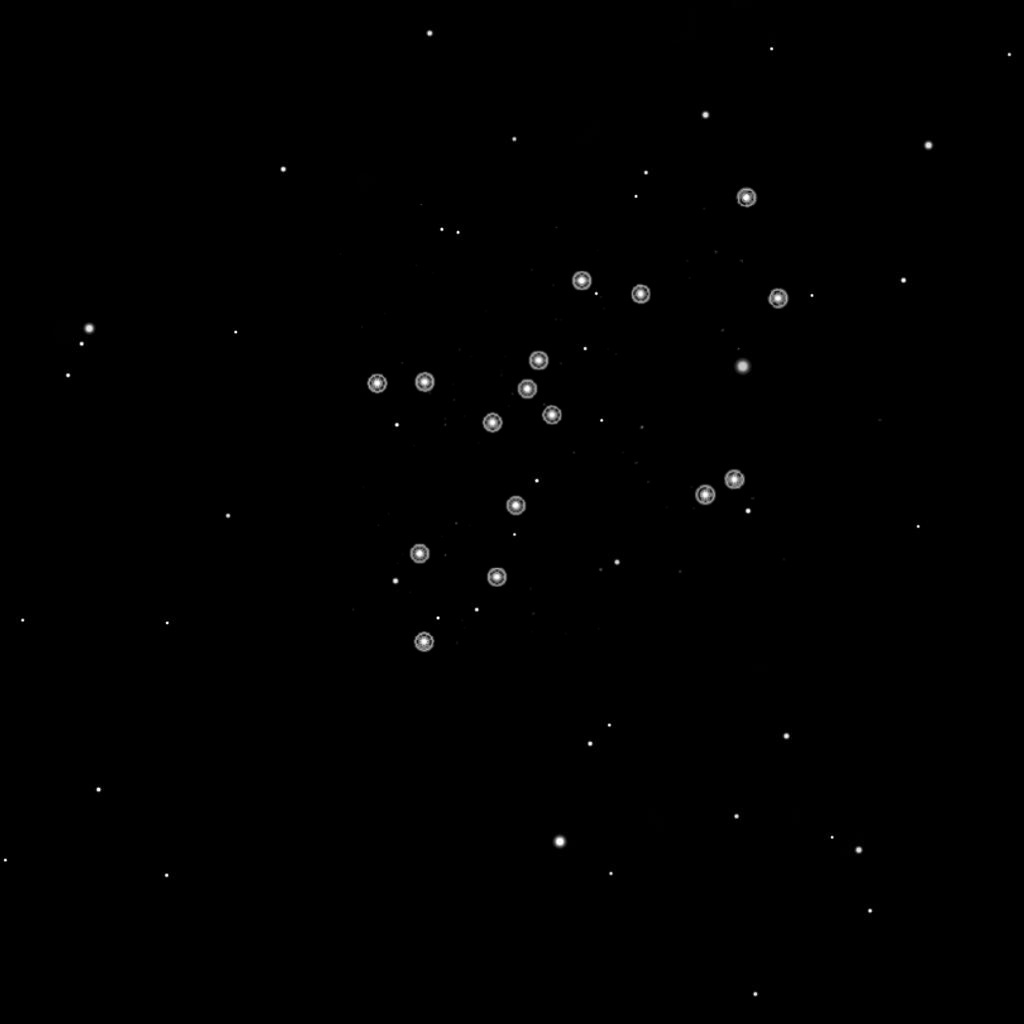canis_major: (475, 270, 653, 441)
